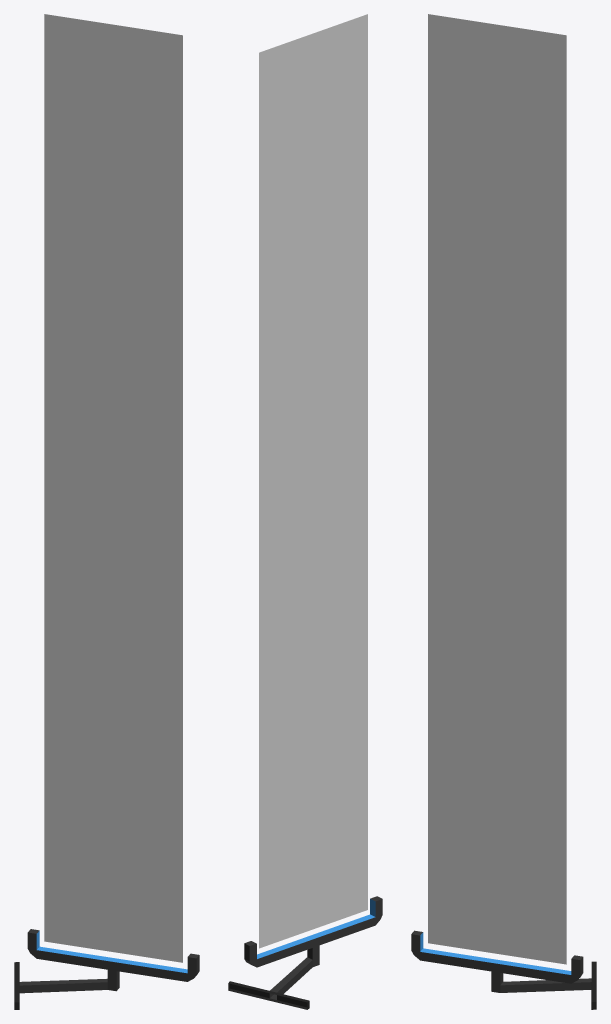
Rendered from PropagandaEmPe.fbx.
The picture shows the model from 3 angles, left to right: view 1: azimuth 90°, elevation 25°; view 2: azimuth 150°, elevation 25°; view 3: azimuth 270°, elevation 25°; orthographic projection. The views are drawn at different scales.
Parts seen in each view (by area): view 1: Plane.001, Cube.214; view 2: Plane.001, Cube.214; view 3: Plane.001, Cube.214.
Boxes of the visible parts, box(x1,y1,x2,y2) form: Plane.001: box(44, 14, 182, 962); Cube.214: box(14, 929, 199, 1009); Plane.001: box(259, 14, 367, 948); Cube.214: box(228, 896, 382, 1009); Plane.001: box(428, 14, 566, 964); Cube.214: box(411, 930, 596, 1009).
Bounding box in the file's own units: 162 × 1800 × 313.
Materials: 1 (1 with a texture image).
